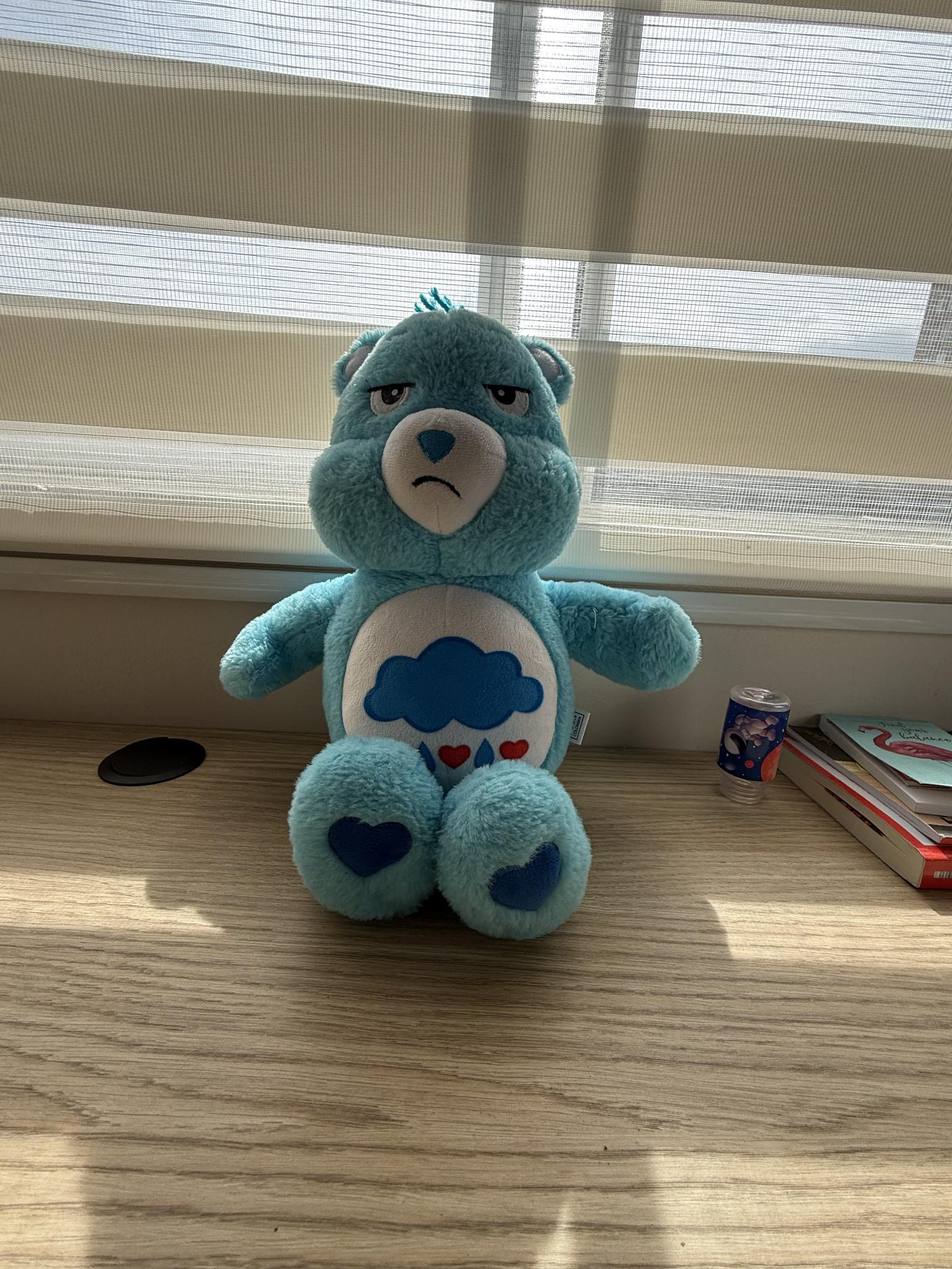peluche_Juan Jose: (275, 308, 666, 947)
